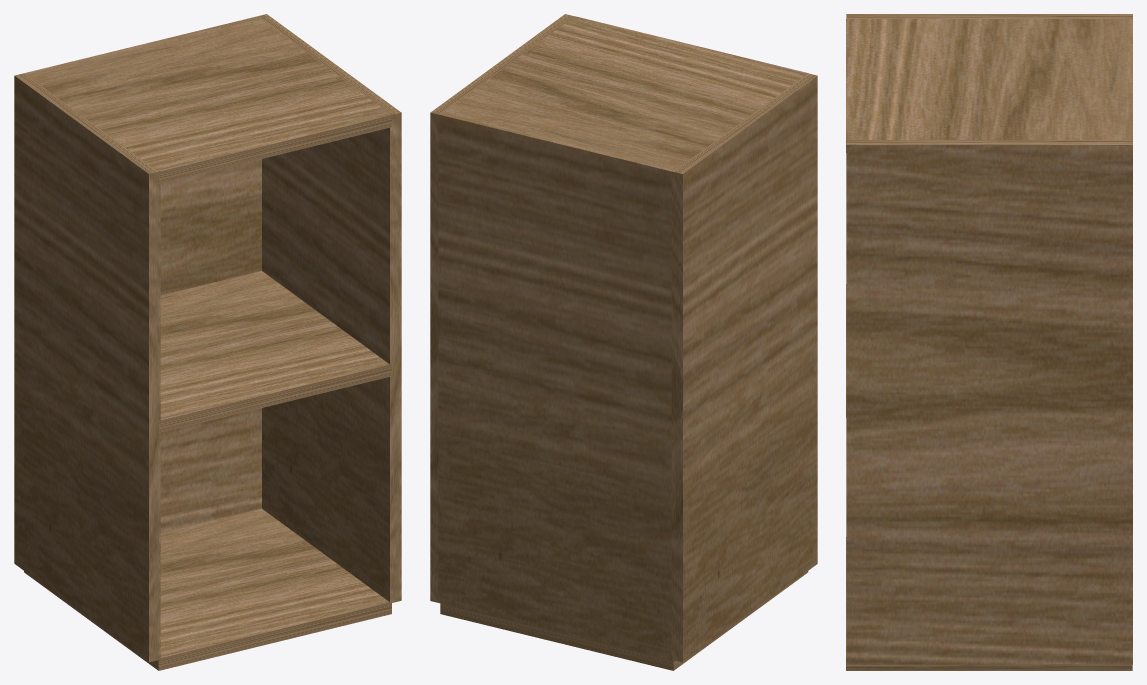
Rendered from BookShelf.fbx.
3 renders of one model, left to right at view 1: azimuth 30°, elevation 25°; view 2: azimuth 150°, elevation 25°; view 3: azimuth 270°, elevation 25°, orthographic. The views are drawn at different scales.
Parts seen in each view (by area): view 1: BookShelf; view 2: BookShelf; view 3: BookShelf.
Part boxes in pixels (x1,y1,x2,y2): BookShelf: (14,14,401,670); BookShelf: (430,14,817,670); BookShelf: (846,14,1132,670).
Bounding box in the file's own units: 108 × 204 × 100.
1 material, 1 textured.
